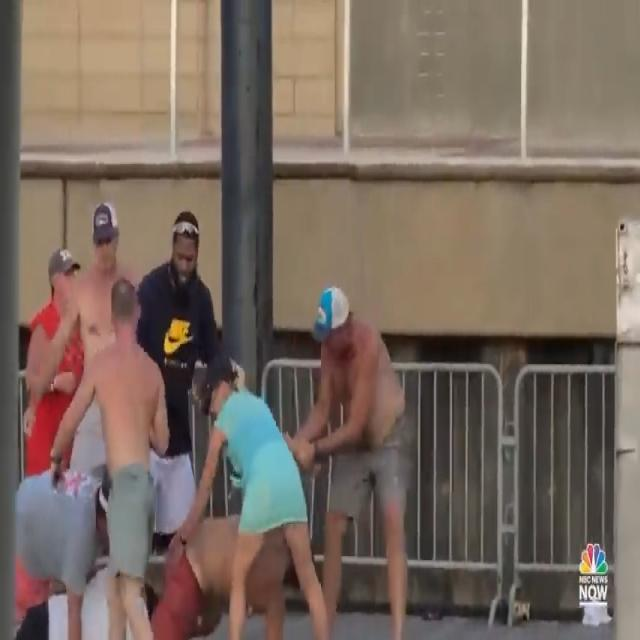fight: (17, 185, 413, 640)
